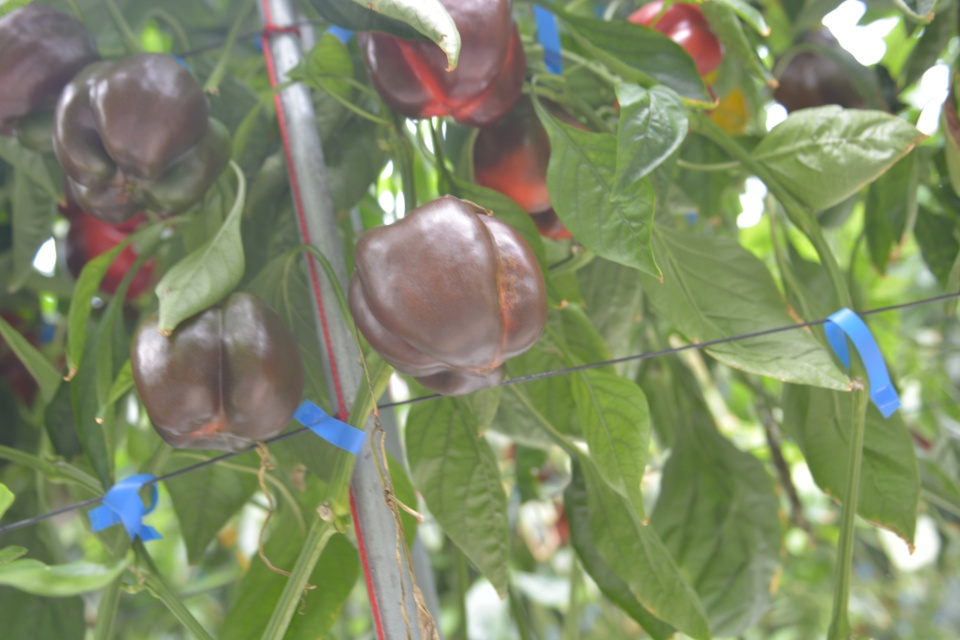fruit: (346, 190, 550, 398), (48, 50, 232, 227), (128, 288, 306, 456), (356, 0, 525, 128), (472, 92, 592, 243), (56, 178, 176, 300), (0, 0, 100, 139), (612, 0, 724, 114), (771, 25, 908, 114)
